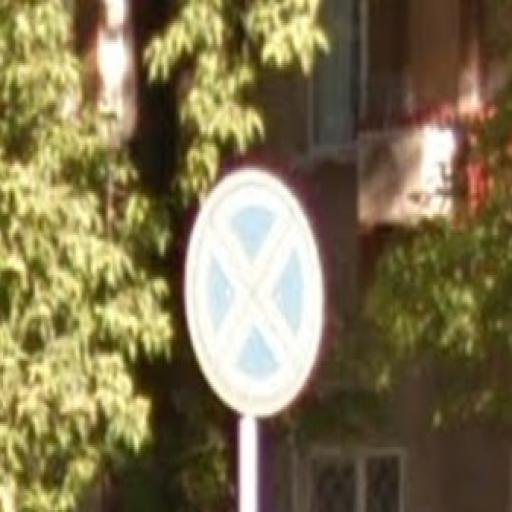traffic_sign: (183, 167, 326, 419)
